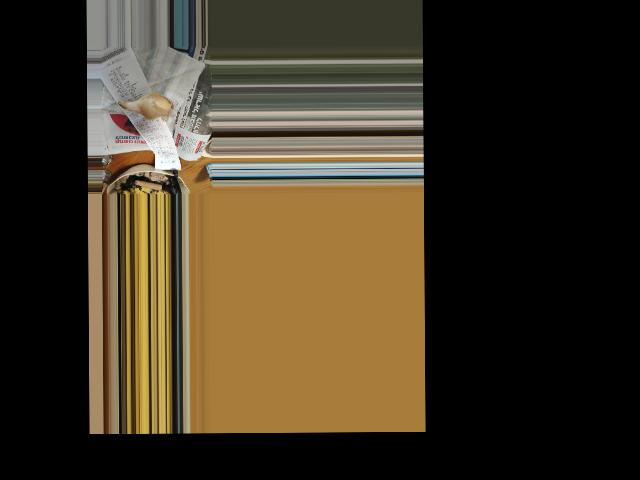onion: (134, 93, 176, 116)
